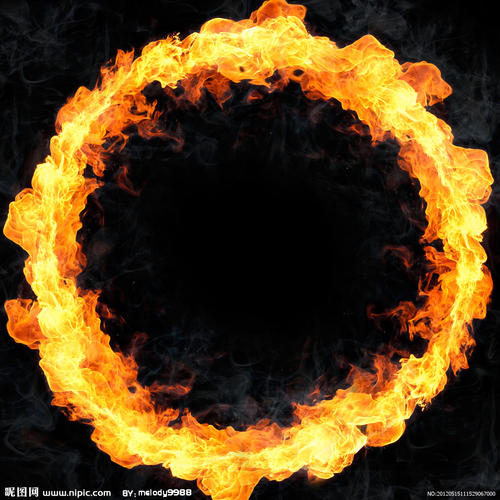fire: (13, 192, 93, 352), (369, 58, 456, 178), (181, 27, 347, 85), (96, 370, 170, 464)
